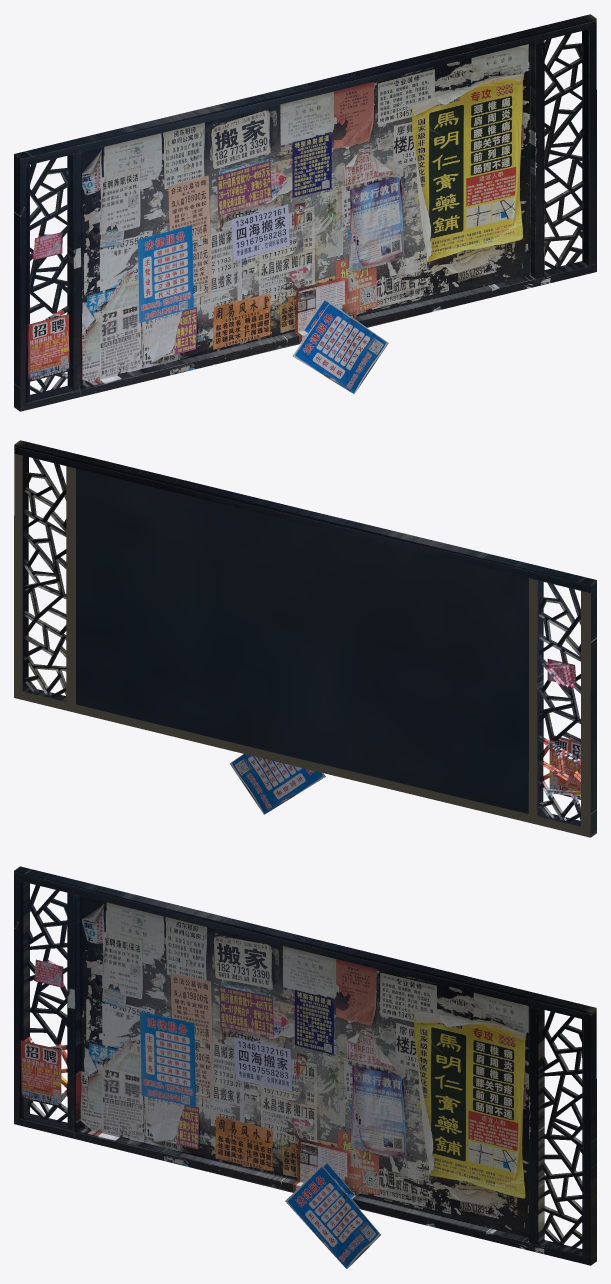
The model's file is AC_DAZHI2.glb.
3 renders of one model, top to bottom at view 1: azimuth 30°, elevation 25°; view 2: azimuth 150°, elevation 25°; view 3: azimuth 330°, elevation 25°, orthographic.
Visible parts, largest first — view 1: DAZHI2; view 2: DAZHI2; view 3: DAZHI2.
Boxes of the visible parts, <box> form: DAZHI2: <box>14,14,596,411</box>; DAZHI2: <box>14,440,596,837</box>; DAZHI2: <box>14,866,596,1268</box>.
Size of the model in its own units: 1.72 by 0.9023 by 0.0359.
Materials: 1 (1 with a texture image).
